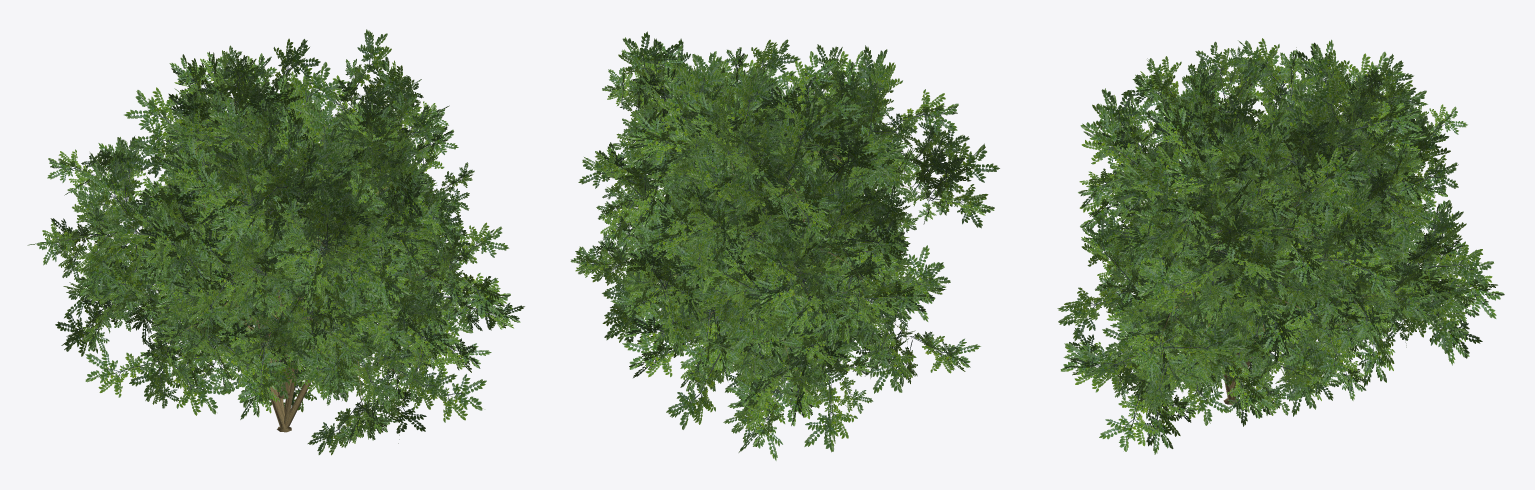
Rendered from woodland-shrub.glb.
The picture shows the model from 3 angles, left to right: view 1: azimuth 30°, elevation 25°; view 2: azimuth 150°, elevation 25°; view 3: azimuth 270°, elevation 25°; orthographic projection. The views are drawn at different scales.
Parts seen in each view (by area): view 1: shrub-1, shrub-0; view 2: shrub-1, shrub-0; view 3: shrub-1, shrub-0.
Part boxes in pixels (bbox=[...]): shrub-1: bbox=[27, 38, 524, 455]; shrub-0: bbox=[113, 29, 510, 412]; shrub-1: bbox=[570, 38, 980, 460]; shrub-0: bbox=[578, 31, 999, 396]; shrub-1: bbox=[1057, 39, 1504, 454]; shrub-0: bbox=[1080, 38, 1493, 425].
Size of the model in its own units: 1.11 by 1 by 1.11.
Materials: 2 (2 with a texture image).
